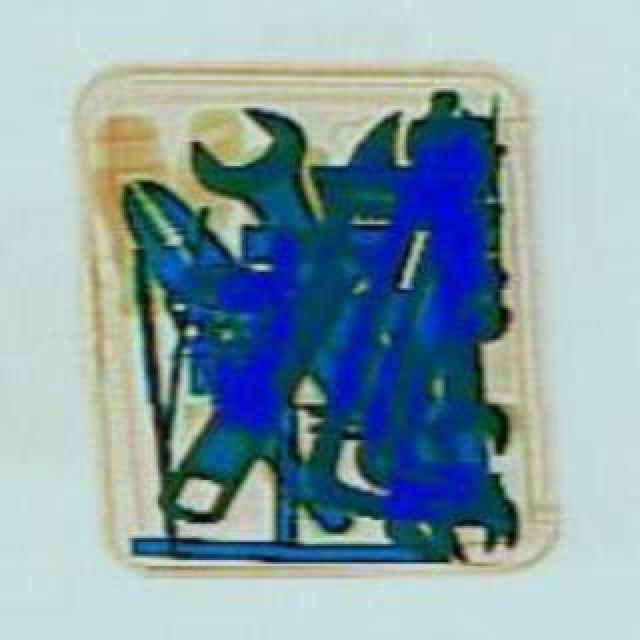scissors: (132, 98, 466, 538), (168, 86, 448, 450), (320, 354, 526, 582)
wrench: (66, 140, 432, 540)
